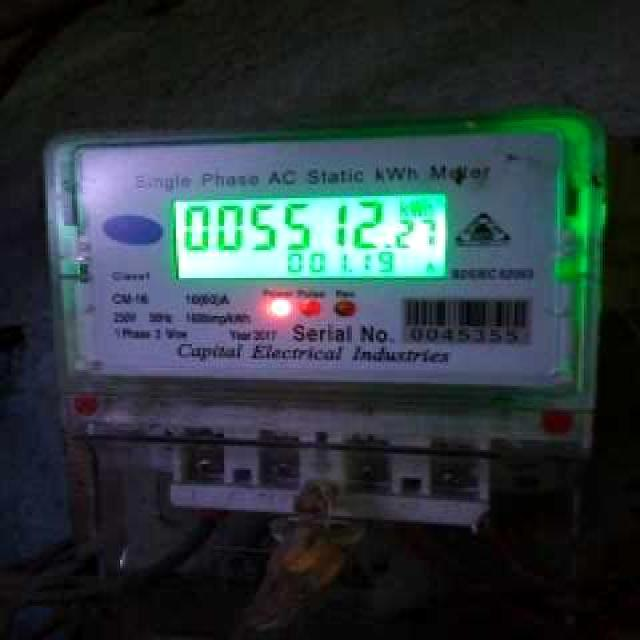LCD: (169, 186, 461, 287)
